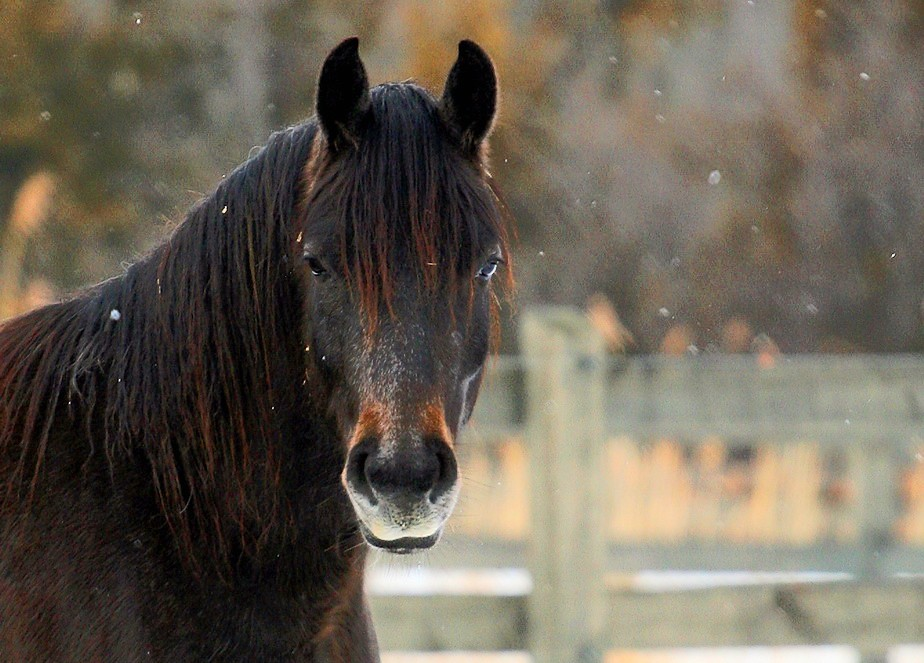horse: (1, 26, 537, 657)
